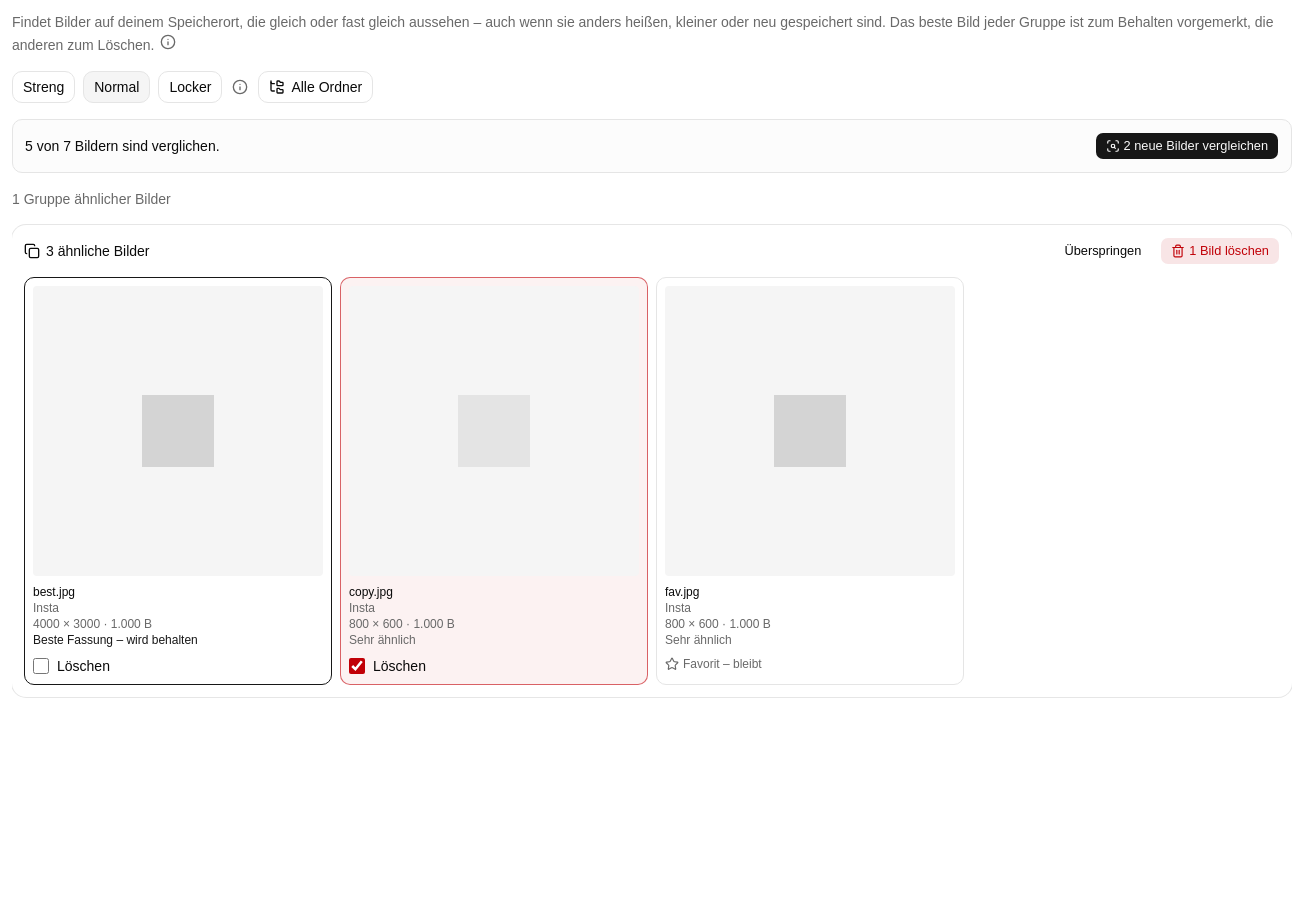
Scenario: SimilarView › suggests keeping the best picture and favourites, deletes the rest
The image size is (1292, 912).
expect the text "Beste Fassung – wird behalten" is shown: met, box [33,633,198,647]
expect the text "Favorit – bleibt" is shown: met, box [665,657,762,671]
Click the button "1 Bild löschen" at {"x": 1220, "y": 251}, box [1160,237,1280,265]
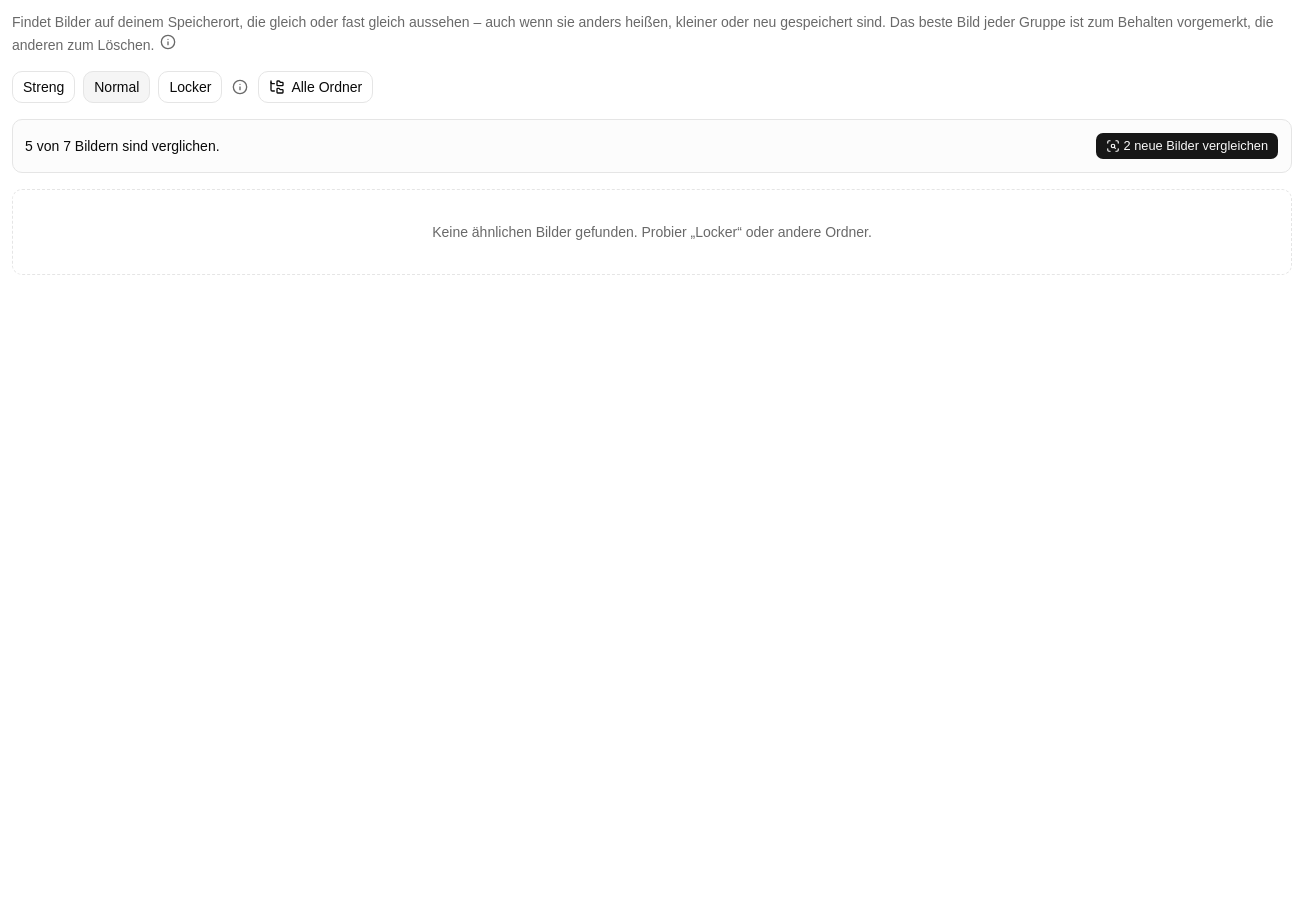
expect the element with test id "similar-group" is gone: met
